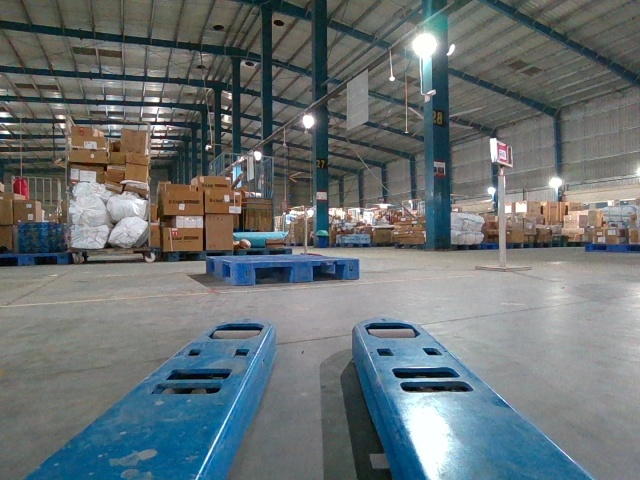pallet: (237, 258, 360, 286)
